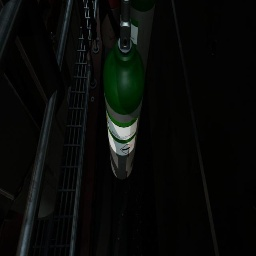0: (103, 0, 145, 180), (130, 0, 156, 79)
NitrogenTank ,: (98, 0, 121, 49)
